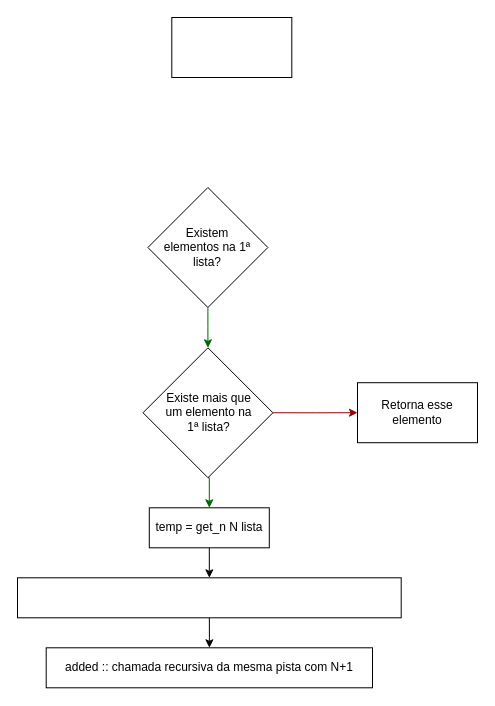
Some shapes in this 495 by 706 pixel diagram are drawn without their labels. Each missing label, with the box of its shape:
added = add_on_tail (temp (recursiva próximo elemento da 1ª lista)): (16, 577, 401, 618)
Recebe lista de listas Recebe um N = 0: (171, 16, 292, 78)
